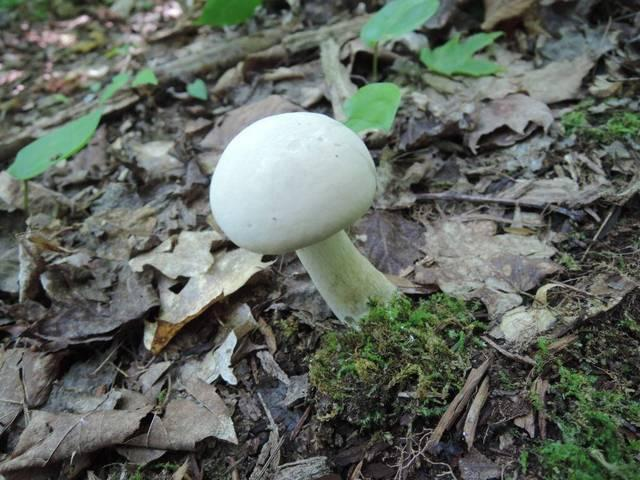Edible Mushroom: (208, 109, 405, 331)
